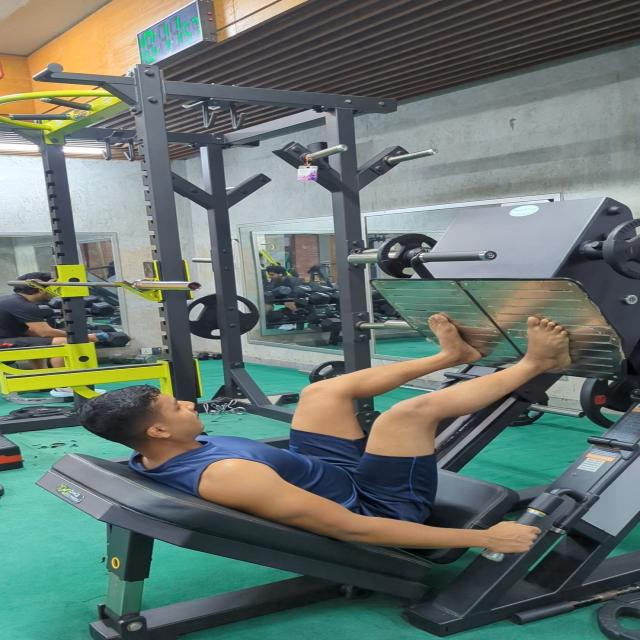Normal_LegPress: (9, 308, 601, 560)
